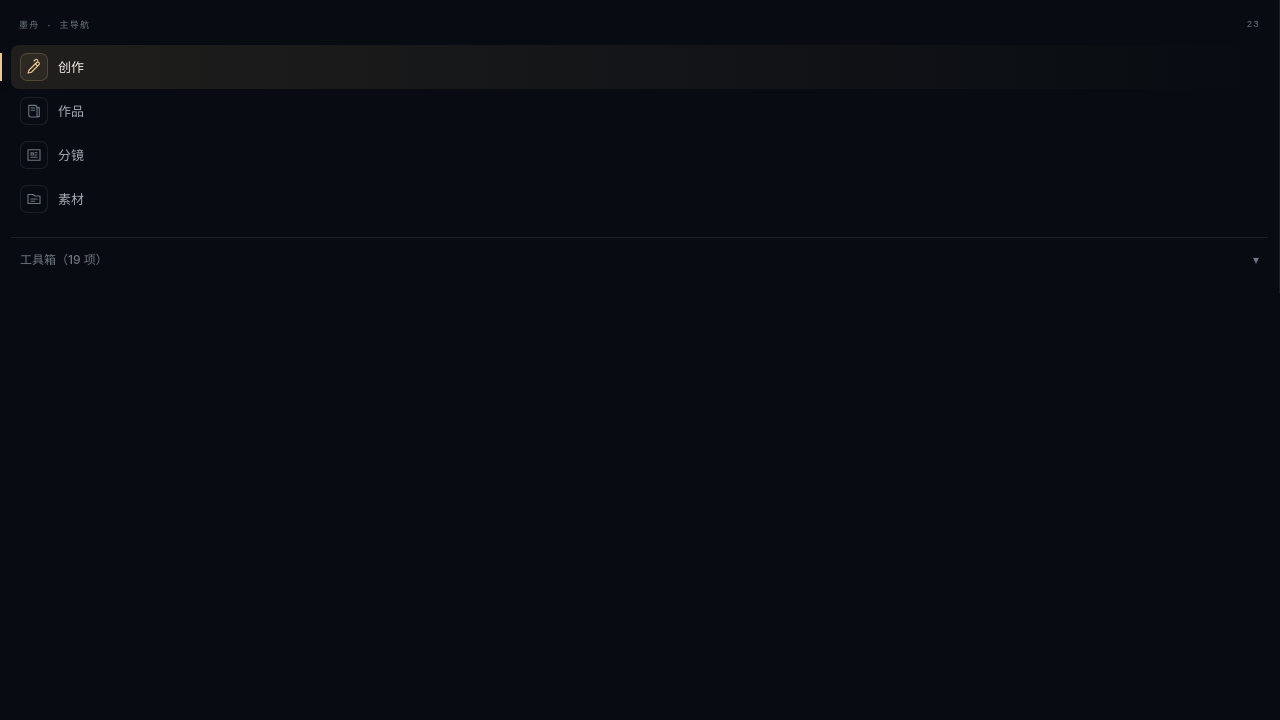
Test: CapabilityChannels（U01 四域 + 工具箱） › 四域一级直达；工具箱收纳其余全部航道（23 项均可达）
The image size is (1280, 720).
Step 1. Click the button with test id "nav-toolbox-toggle" → click(44, 260), box [11,237,1268,275]
(page scrolled)
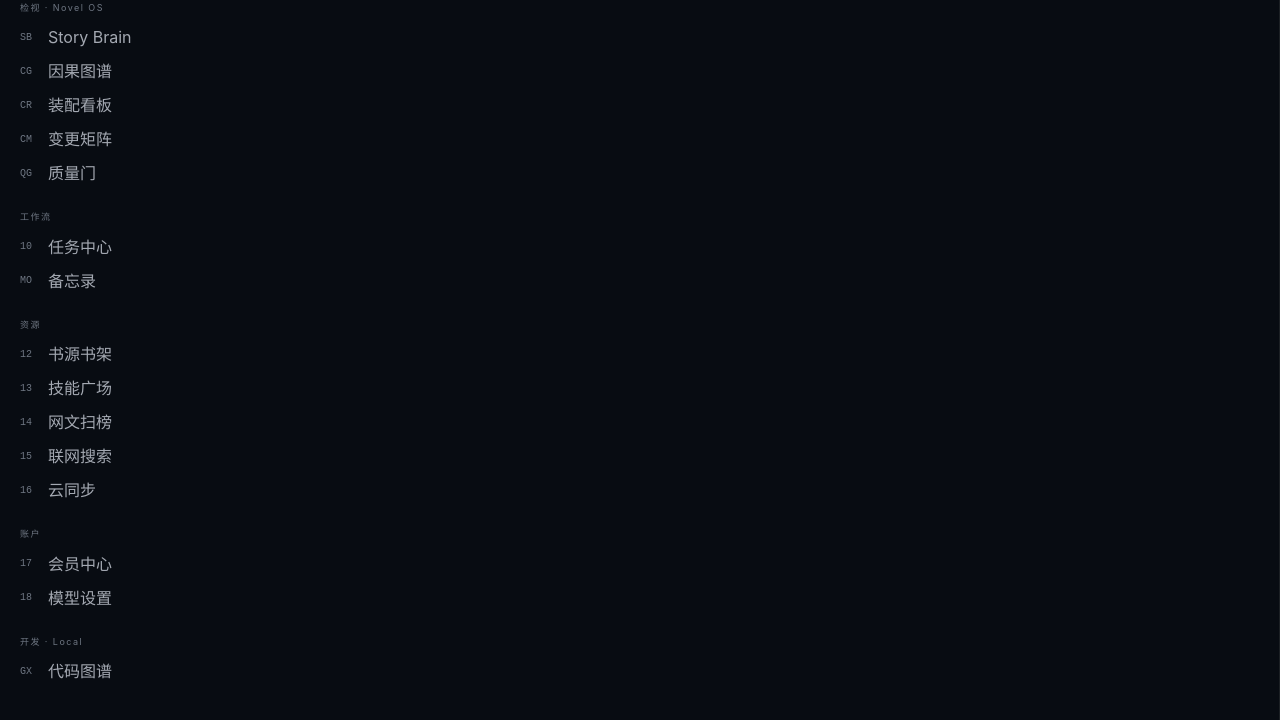
Now the number of elements with class "nav-item" is 19
Now the button with class "nav-item" showing "SB Story Brain" is shown, box [11,20,1268,54]
Now the button with class "nav-item" showing "CG 因果图谱" is shown, box [11,54,1268,88]
